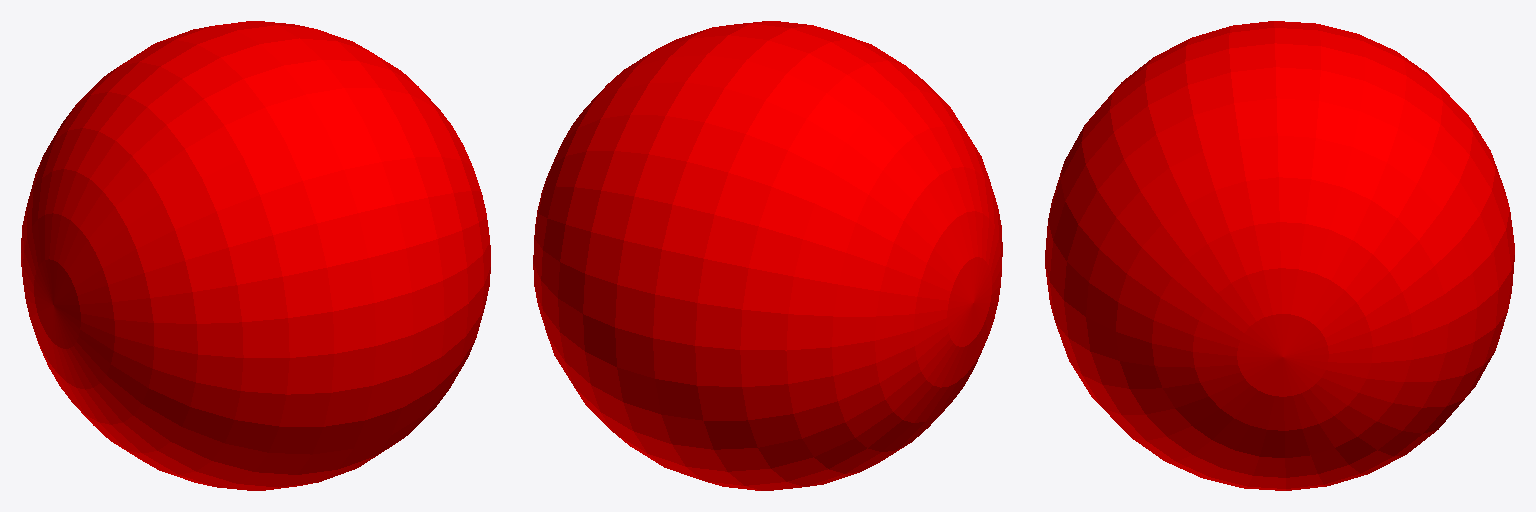
URDF robot description (panda):
<?xml version='1.0' encoding='utf-8'?>
<robot name="panda">
  
  <link name="panda_link0">
    <visual>
      <geometry>
        <mesh filename="../meshes/panda/link0.dae" />
      </geometry>
    </visual>
  </link>
  <link name="panda_link1">
    <visual>
      <geometry>
        <mesh filename="../meshes/panda/link1.dae" />
      </geometry>
    </visual>
  </link>
  
  
  <joint name="panda_joint1" type="revolute">
    <origin rpy="-6.478369884611035e-06 3.2531259337282877e-08 -3.351756093527367e-17" xyz="5.774688145414098e-17 2.218661989219751e-17 0.333" />
    <parent link="panda_link0" />
    <child link="panda_link1" />
    <axis xyz="0 0 1" />
    <limit effort="87.0" lower="-2.8973" upper="2.8973" velocity="2.175" />
    <safety_controller k_position="100.0" k_velocity="40.0" soft_lower_limit="-2.8973" soft_upper_limit="2.8973" />
  </joint>
  
  <link name="panda_link2">
    <visual>
      <geometry>
        <mesh filename="../meshes/panda/link2.dae" />
      </geometry>
    </visual>
  </link>
  
  <joint name="panda_joint2" type="revolute">
    <origin rpy="-1.5691039237056728 0.0004677993350039688 1.4241498262028565e-10" xyz="6.869792075033197e-05 0.00019688359843828975 -2.1505593657772702e-17" />
    <parent link="panda_link1" />
    <child link="panda_link2" />
    <axis xyz="0 0 1" />
    <limit effort="87.0" lower="-1.7628" upper="1.7628" velocity="2.175" />
    <safety_controller k_position="100.0" k_velocity="40.0" soft_lower_limit="-1.7628" soft_upper_limit="1.7628" />
  </joint>
  
  <link name="panda_link3">
    <visual>
      <geometry>
        <mesh filename="../meshes/panda/link3.dae" />
      </geometry>
    </visual>
  </link>
  
  <joint name="panda_joint3" type="revolute">
    <origin rpy="1.569905108582915 -0.0026702643847938334 0.00045357944186582064" xyz="4.4999344066411925e-05 -0.3168198111414633 0.00019688348264730338" />
    <parent link="panda_link2" />
    <child link="panda_link3" />
    <axis xyz="0 0 1" />
    <limit effort="87.0" lower="-2.8973" upper="2.8973" velocity="2.175" />
    <safety_controller k_position="100.0" k_velocity="40.0" soft_lower_limit="-2.8973" soft_upper_limit="2.8973" />
  </joint>
  
  <link name="panda_link4">
    <visual>
      <geometry>
        <mesh filename="../meshes/panda/link4.dae" />
      </geometry>
    </visual>
  </link>
  
  <joint name="panda_joint4" type="revolute">
    <origin rpy="1.5691394826589014 0.0013927386555089988 0.0026538673212457547" xyz="0.08265427273481392 0.0002036643475814555 0.0008200064152495127" />
    <parent link="panda_link3" />
    <child link="panda_link4" />
    <axis xyz="0 0 1" />
    <limit effort="87.0" lower="-3.0718" upper="-0.0698" velocity="2.175" />
    <safety_controller k_position="100.0" k_velocity="40.0" soft_lower_limit="-3.0718" soft_upper_limit="-0.0698" />
  </joint>
  
  <link name="panda_link5">
    <visual>
      <geometry>
        <mesh filename="../meshes/panda/link5.dae" />
      </geometry>
    </visual>
  </link>
  
  <joint name="panda_joint5" type="revolute">
    <origin rpy="-1.5716993777741444 0.011030878222247893 -0.0011500632899242276" xyz="-0.08204134414108213 0.3847534044806093 -0.00020189521090589624" />
    <parent link="panda_link4" />
    <child link="panda_link5" />
    <axis xyz="0 0 1" />
    <limit effort="12.0" lower="-2.8973" upper="2.8973" velocity="2.61" />
    <safety_controller k_position="100.0" k_velocity="40.0" soft_lower_limit="-2.8973" soft_upper_limit="2.8973" />
  </joint>
  
  <link name="panda_link6">
    <visual>
      <geometry>
        <mesh filename="../meshes/panda/link6.dae" />
      </geometry>
    </visual>
  </link>
  
  <joint name="panda_joint6" type="revolute">
    <origin rpy="1.565906533038832 0.002447279527486587 0.011031931752826084" xyz="0.0008069285645448682 0.0006930431259015023 0.0007541089343999483" />
    <parent link="panda_link5" />
    <child link="panda_link6" />
    <axis xyz="0 0 1" />
    <limit effort="12.0" lower="-0.0175" upper="3.7525" velocity="2.61" />
    <safety_controller k_position="100.0" k_velocity="40.0" soft_lower_limit="-0.0175" soft_upper_limit="3.7525" />
  </joint>
  
  <link name="panda_link7">
    <visual>
      <geometry>
        <mesh filename="../meshes/panda/link7.dae" />
      </geometry>
    </visual>
  </link>
  
  <joint name="panda_joint7" type="revolute">
    <origin rpy="1.569037177169469 -3.4146334876909247e-06 -0.002277927431706217" xyz="0.08789623448965604 -0.0013118880147136493 -0.0006803956263812915" />
    <parent link="panda_link6" />
    <child link="panda_link7" />
    <axis xyz="0 0 1" />
    <limit effort="12.0" lower="-2.8973" upper="2.8973" velocity="2.61" />
    <safety_controller k_position="100.0" k_velocity="40.0" soft_lower_limit="-2.8973" soft_upper_limit="2.8973" />
  </joint>
  <link name="panda_link8" />
  <joint name="panda_joint8" type="fixed">
    <origin rpy="0 0 0" xyz="0 0 0.107" />
    <parent link="panda_link7" />
    <child link="panda_link8" />
  </joint>
  <joint name="panda_hand_joint" type="fixed">
    <parent link="panda_link8" />
    <child link="panda_hand" />
    <origin rpy="0 0 -0.7853981633974483" xyz="0 0 0" />
  </joint>
  
  <link name="panda_hand">
    <visual>
      <geometry>
        <mesh filename="../meshes/panda/hand.dae" />
      </geometry>
    </visual>
  </link>
  <link name="panda_hand_tcp" />
  <joint name="panda_hand_tcp_joint" type="fixed">
    <origin rpy="0 0 0" xyz="0 0 0.1034" />
    <parent link="panda_hand" />
    <child link="panda_hand_tcp" />
  </joint>
  <link name="ball_link">
    <visual>
      <material name="red">
        <color rgba="1 0 0 1" />
      </material>

      <geometry>
        <sphere radius="0.005" />
      </geometry>
    </visual>
  </link>

  <joint name="ball_joint" type="fixed">
    <origin rpy="0.0 0.0 0.0" xyz="-0.0009481981012812722 -0.007071742271933424 0.031439169882774995" />
    <parent link="panda_hand_tcp" />
    <child link="ball_link" />
  </joint>
  <link name="panda_leftfinger">
    <visual>
      <geometry>
        <mesh filename="../meshes/panda/finger.dae" />
      </geometry>
    </visual>
  </link>
  <link name="panda_rightfinger">
    <visual>
      <origin rpy="0 0 3.141592653589793" xyz="0 0 0" />
      <geometry>
        <mesh filename="../meshes/panda/finger.dae" />
      </geometry>
    </visual>
  </link>

    <joint name="panda_finger_joint1" type="prismatic">
    <parent link="panda_hand" />
    <child link="panda_leftfinger" />
    <origin rpy="0 0 0" xyz="0 0 0.0584" />
    <axis xyz="0 1 0" />
    <limit effort="100" lower="0.0" upper="0.04" velocity="0.2" />
    <dynamics damping="0.3" />
  </joint>
  <joint name="panda_finger_joint2" type="prismatic">
    <parent link="panda_hand" />
    <child link="panda_rightfinger" />
    <origin rpy="0 0 0" xyz="0 0 0.0584" />
    <axis xyz="0 -1 0" />
    <limit effort="100" lower="0.0" upper="0.04" velocity="0.2" />
    <mimic joint="panda_finger_joint1" />
    <dynamics damping="0.3" />
  </joint>
</robot>

--- What the picture shows (computed from the rendered views, not written in the file) ---
Views: 3 orthographic renders of the robot side by side, from view 1: azimuth 30°, elevation 25°; view 2: azimuth 150°, elevation 25°; view 3: azimuth 270°, elevation 25°.
Robot: panda — 14 links, 13 joints (7 revolute, 2 prismatic, 4 fixed); root link panda_link0; default pose: all joints at 0 but 1 set to mid-range because 0 is outside their limits (panda_joint4 = -1.57).
Visible links, largest first — view 1: ball_link; view 2: ball_link; view 3: ball_link.
Link boxes in pixels (x1,y1,x2,y2): ball_link: (21,21,490,490); ball_link: (533,21,1002,490); ball_link: (1045,21,1514,490).
Size in the robot's own frame: 0.01 by 0.01 by 0.01 metres.
Meshes: 10 distinct files referenced, 0 mesh visuals loaded (none loaded); not drawn: 11 (reference not matched to a file when rendering).